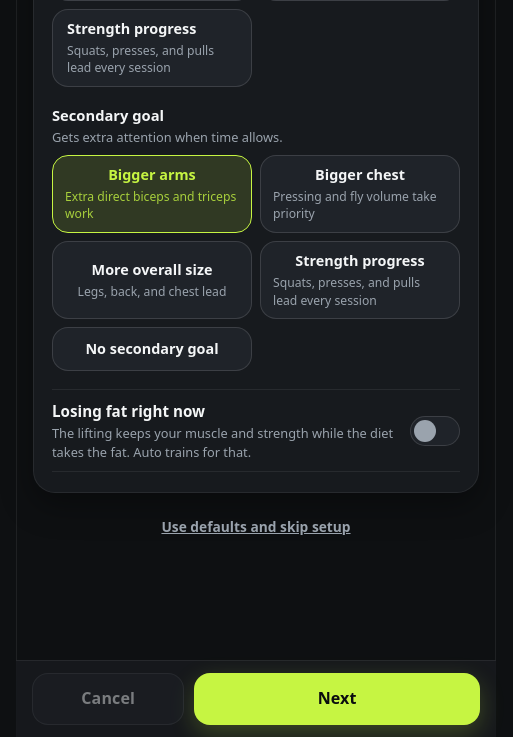
Test case: App › skipping with defaults saves a verified profile and shows the demo workout
(page scrolled)
Click the button "Use defaults and skip setup". click: (256,527)
box: x1=147 y1=507 x2=364 y2=547
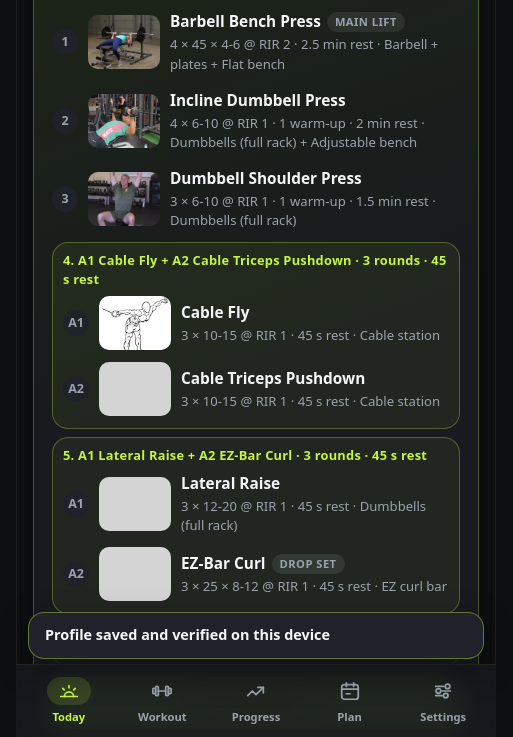
Expected: the button "Start Workout" is enabled, x1=52 y1=677 x2=460 y2=729
Expected: the navigation bar named "Primary" is shown, x1=16 y1=664 x2=496 y2=736
